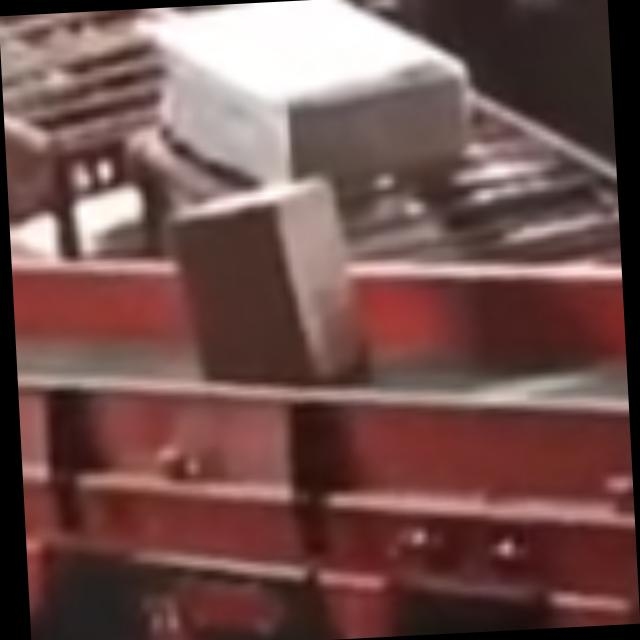box: (177, 178, 370, 402)
